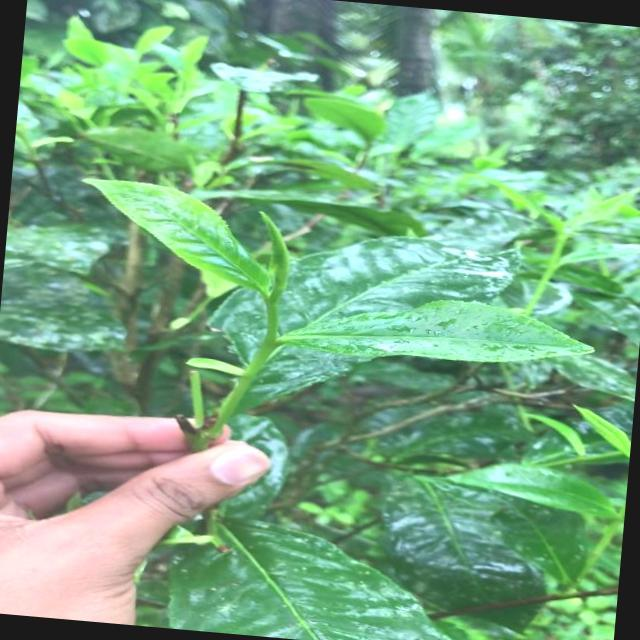Stem: (267, 299, 278, 318)
